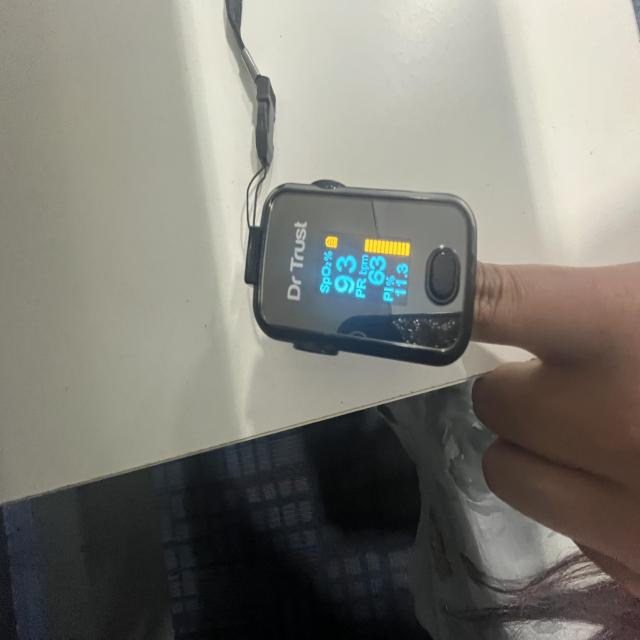spo2: (250, 183, 479, 368)
